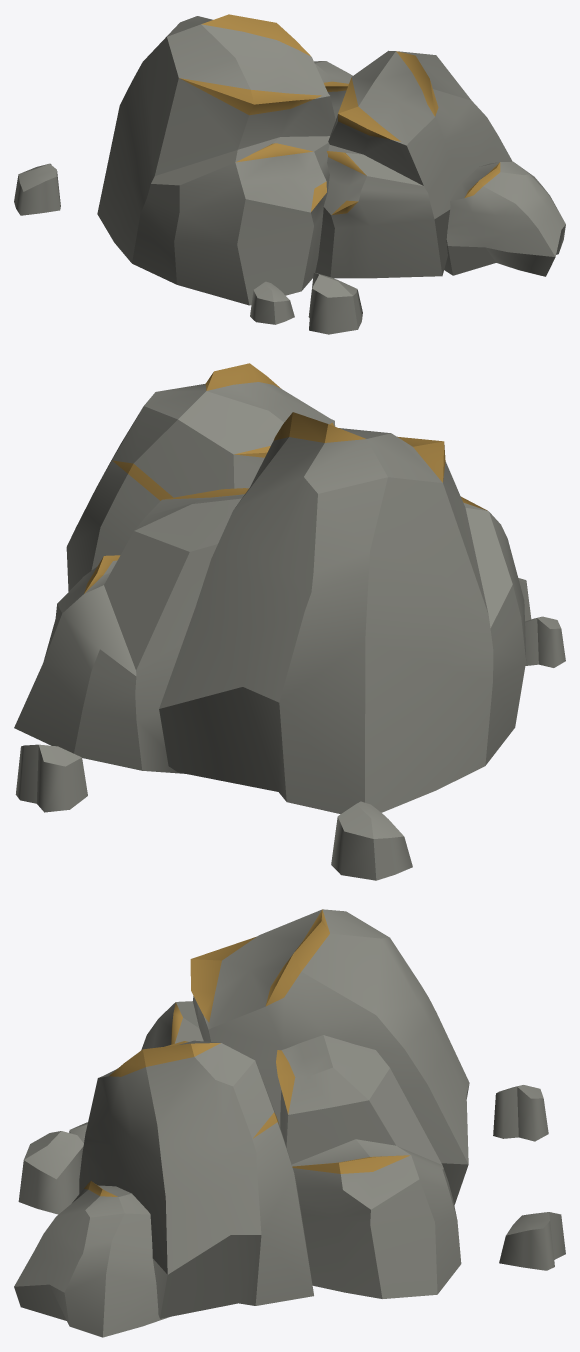
The model's file is Gold rocks.glb.
The picture shows the model from 3 angles, top to bottom: view 1: azimuth 30°, elevation 25°; view 2: azimuth 150°, elevation 25°; view 3: azimuth 270°, elevation 25°; orthographic projection. The views are drawn at different scales.
Visible parts, largest first — view 1: Resource_Gold_1; view 2: Resource_Gold_1; view 3: Resource_Gold_1.
Part boxes in pixels (x1,y1,x2,y2): Resource_Gold_1: (14, 14, 565, 334); Resource_Gold_1: (14, 363, 565, 880); Resource_Gold_1: (14, 909, 565, 1337).
Bounding box in the file's own units: 0.7402 × 0.4217 × 0.7609.
